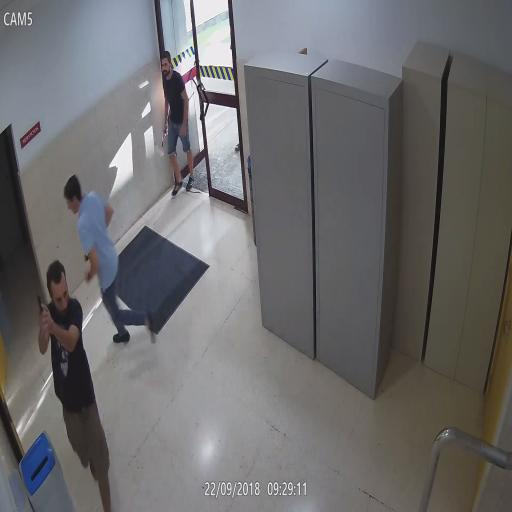Handgun: (36, 290, 50, 333), (159, 120, 169, 150)
